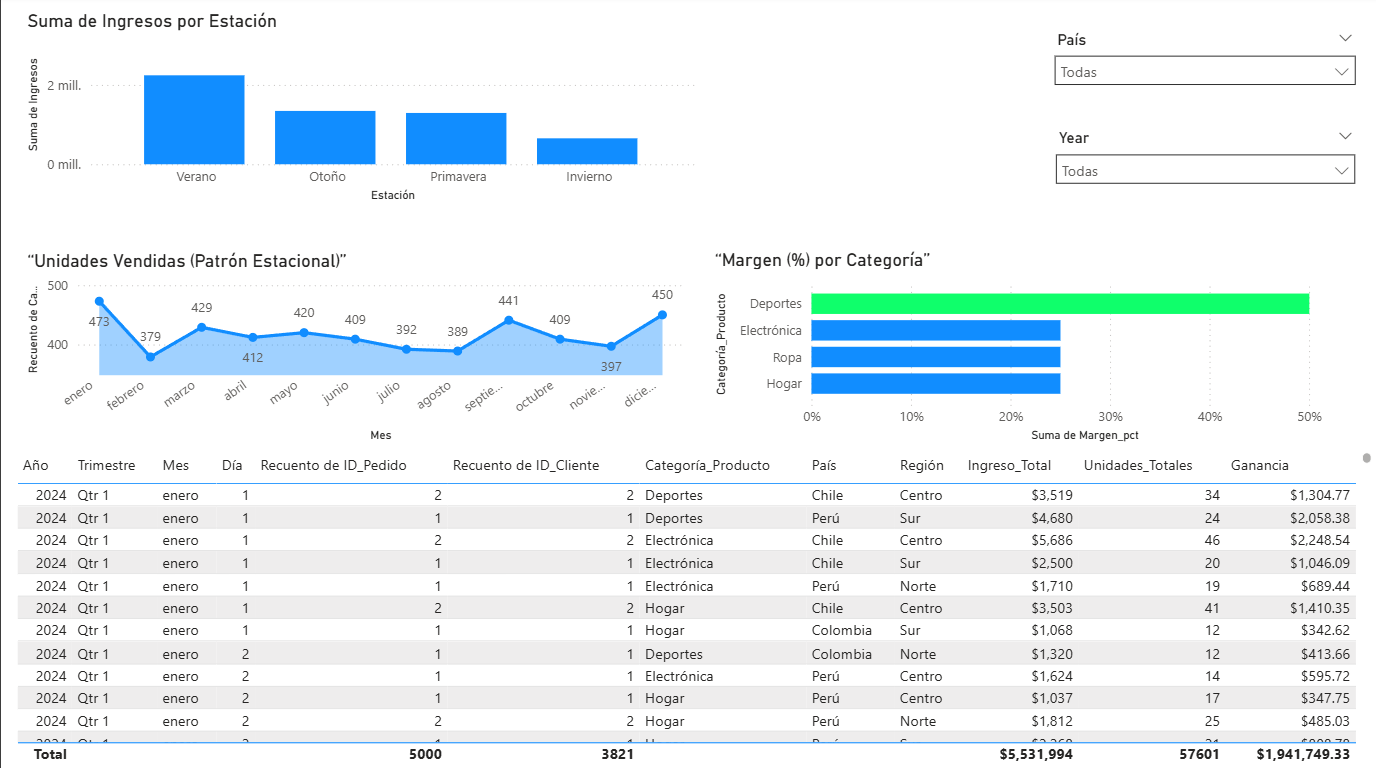

The dashboard page shown, as its layout file describes it:
{"tool":"powerbi","page":{"name":"Detailed","canvas":[1280,720],"ordinal":1},"visuals":[{"type":"lineChart","title":"“Unidades Vendidas (Patrón Estacional)”","fields":{"Category":["Andes_Retail_Group_2024_2025.Fecha_Pedido.Variación.Jerarquía de fechas.Mes"],"Y":["CountNonNull(Andes_Retail_Group_2024_2025.Categoría_Producto)"]},"box":[19.8,236,619.8,183.7],"z":1000},{"type":"clusteredBarChart","title":"“Margen (%) por Categoría”","fields":{"Category":["Andes_Retail_Group_2024_2025.Categoría_Producto"],"Y":["Sum(Andes_Retail_Group_2024_2025.Margen_pct)"]},"box":[659.3,234.9,620.9,184.9],"z":2000},{"type":"clusteredColumnChart","fields":{"Category":["Andes_Retail_Group_2024_2025.Estación"],"Y":["Sum(Andes_Retail_Group_2024_2025.Ingresos)"]},"box":[19.8,12.8,630.2,183.7],"z":3000},{"type":"tableEx","fields":{"Values":["Andes_Retail_Group_2024_2025.Fecha_Pedido.Variación.Jerarquía de fechas.Año","Andes_Retail_Group_2024_2025.Fecha_Pedido.Variación.Jerarquía de fechas.Trimestre","Andes_Retail_Group_2024_2025.Fecha_Pedido.Variación.Jerarquía de fechas.Mes","Andes_Retail_Group_2024_2025.Fecha_Pedido.Variación.Jerarquía de fechas.Día","CountNonNull(Andes_Retail_Group_2024_2025.ID_Pedido)","Andes_Retail_Group_2024_2025.ID_Cliente","Andes_Retail_Group_2024_2025.Categoría_Producto","Andes_Retail_Group_2024_2025.País","Andes_Retail_Group_2024_2025.Región","Andes_Retail_Group_2024_2025.Ingreso_Total","Andes_Retail_Group_2024_2025.Unidades_Totales","Andes_Retail_Group_2024_2025.Ganancia"]},"box":[9.3,419.8,1270.9,300],"z":4000},{"type":"slicer","fields":{"Values":["Andes_Retail_Group_2024_2025.Year"]},"box":[970.9,118.6,298.8,77.9],"z":4001},{"type":"slicer","fields":{"Values":["Andes_Retail_Group_2024_2025.País"]},"box":[969.8,26.7,300,77.9],"z":4002}]}

Visuals, with their boxes in screenshot pixels (x1, y1, x2, y2), scaled from the page's 1280x720 canvas onto the 1376x768 screenshot:
"“Unidades Vendidas (Patrón Estacional)”" lineChart: <box>21,252,688,448</box>
"“Margen (%) por Categoría”" clusteredBarChart: <box>709,251,1375,448</box>
clusteredColumnChart - Andes_Retail_Group_2024_2025.Estación x Sum(Andes_Retail_Group_2024_2025.Ingresos): <box>21,14,699,210</box>
tableEx - Andes_Retail_Group_2024_2025.Fecha_Pedido.Variación.Jerarquía de fechas.Año x Andes_Retail_Group_2024_2025.Fecha_Pedido.Variación.Jerarquía de fechas.Trimestre: <box>10,448,1375,767</box>
slicer - Andes_Retail_Group_2024_2025.Year: <box>1044,127,1365,210</box>
slicer - Andes_Retail_Group_2024_2025.País: <box>1043,28,1365,112</box>
